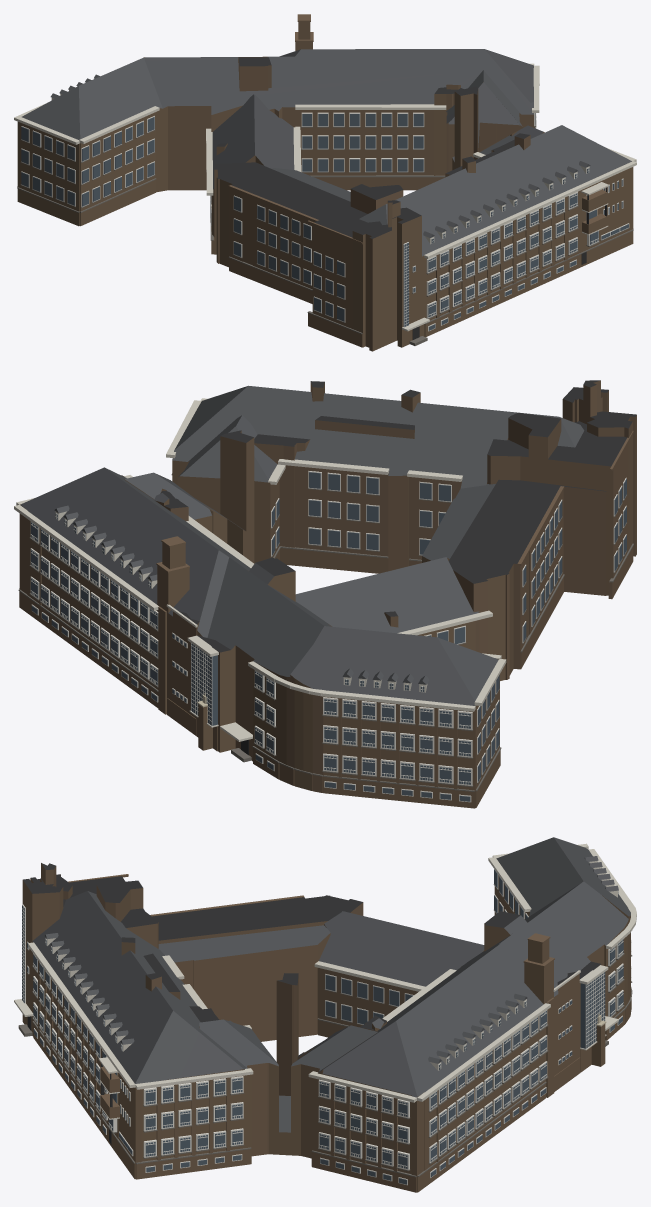
Rendered from nieuwe-achtergracht-129.glb.
3 views of the same model, one above another, from view 1: azimuth 30°, elevation 25°; view 2: azimuth 150°, elevation 25°; view 3: azimuth 270°, elevation 25° (orthographic). The views are drawn at different scales.
Visible parts, largest first — view 1: nieuwe-achtergracht-129; view 2: nieuwe-achtergracht-129; view 3: nieuwe-achtergracht-129.
Boxes of the visible parts, <box> form: nieuwe-achtergracht-129: <box>14,14,636,351</box>; nieuwe-achtergracht-129: <box>14,380,636,808</box>; nieuwe-achtergracht-129: <box>14,837,636,1192</box>.
Size of the model in its own units: 85.51 by 24.97 by 89.04.
